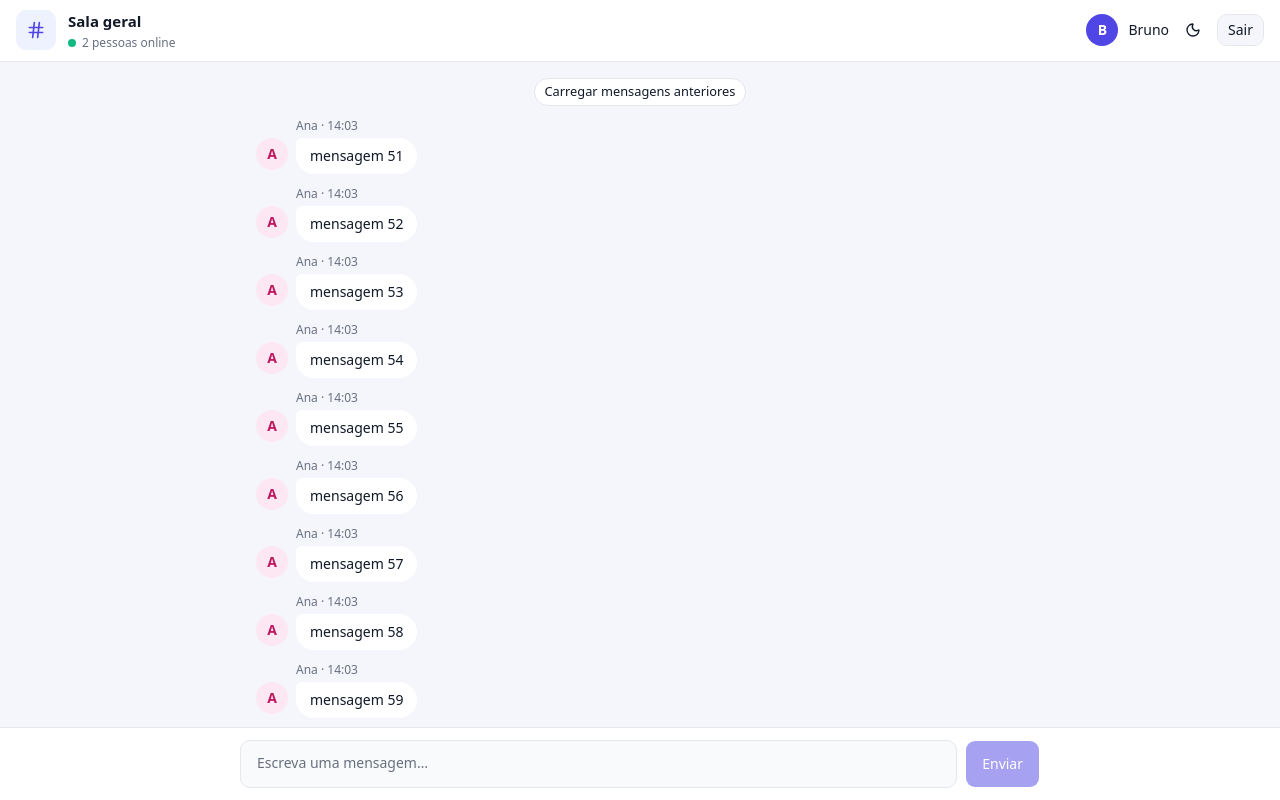
it: ChatStream › mensagens anteriores (HIST-01) › falha ({ ok: false }) mantém o botão e mostra o erro (AC6)
This screenshot has width=1280, height=800.
What coordinates should you click on to do the following:
click the button "Carregar mensagens anteriores"
I would click on:
 (640, 92)
Its box is [534, 78, 746, 106].
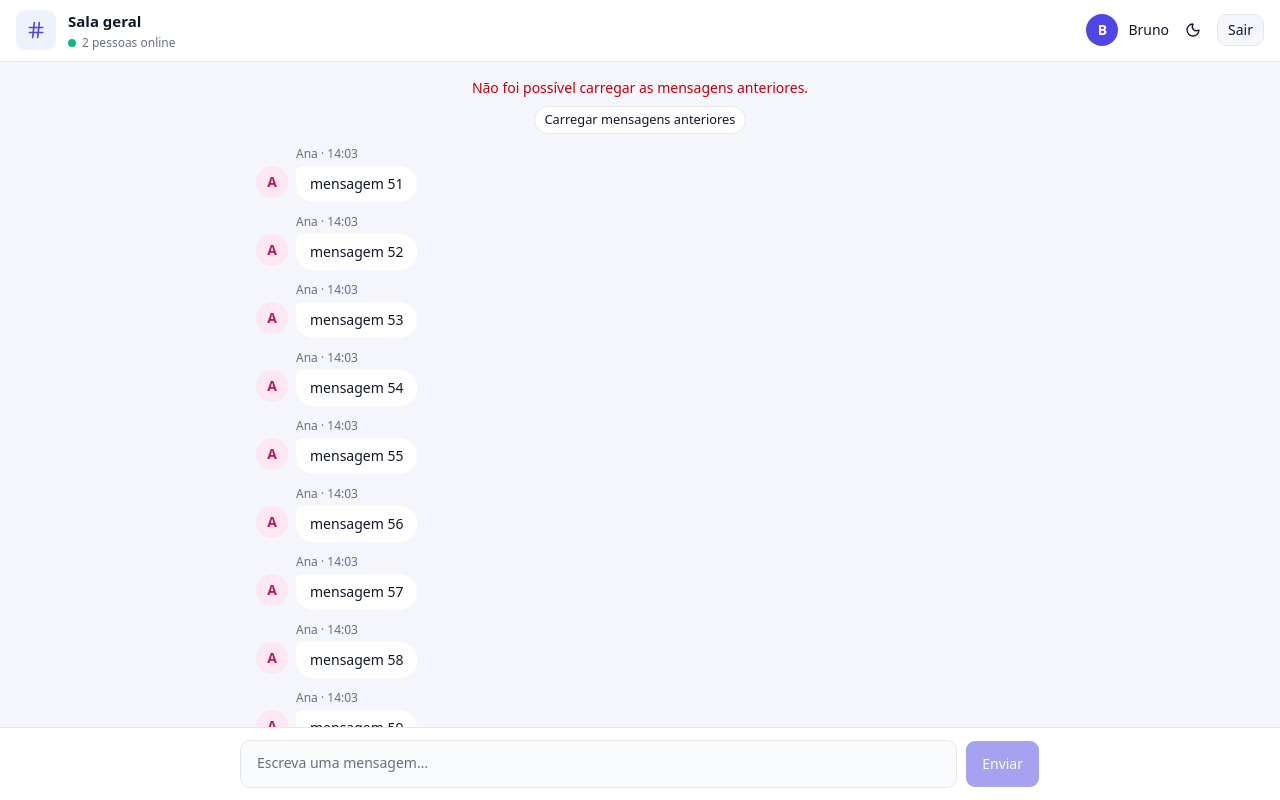
Expected: the button "Carregar mensagens anteriores" is enabled, [534, 106, 746, 134]
Expected: the message reads "Não foi possível carregar as mensagens anteriores.", [472, 78, 808, 96]
